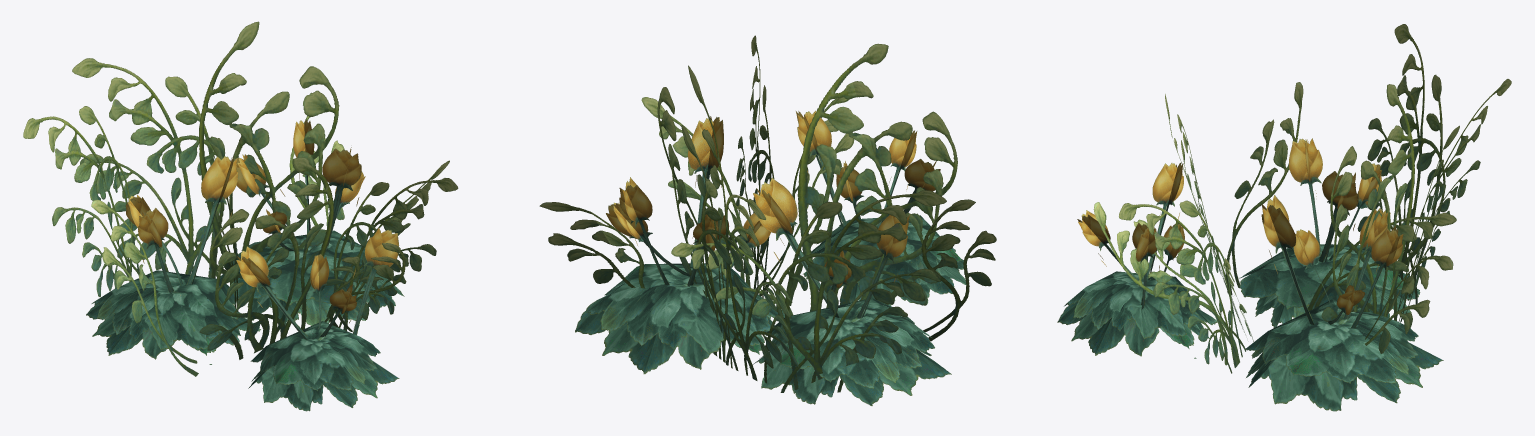
Rendered from cs_lobbynew02_cao_hua03.FBX.
3 renders of one model, left to right at view 1: azimuth 30°, elevation 25°; view 2: azimuth 150°, elevation 25°; view 3: azimuth 270°, elevation 25°, orthographic. The views are drawn at different scales.
Parts seen in each view (by area): view 1: cs_lobbynew02_cao_hua03; view 2: cs_lobbynew02_cao_hua03; view 3: cs_lobbynew02_cao_hua03.
Boxes of the visible parts, x1=… form: cs_lobbynew02_cao_hua03: x1=23, y1=21, x2=458, y2=411; cs_lobbynew02_cao_hua03: x1=539, y1=35, x2=996, y2=405; cs_lobbynew02_cao_hua03: x1=1057, y1=24, x2=1511, y2=411.
Size of the model in its own units: 196 by 208 by 145.
